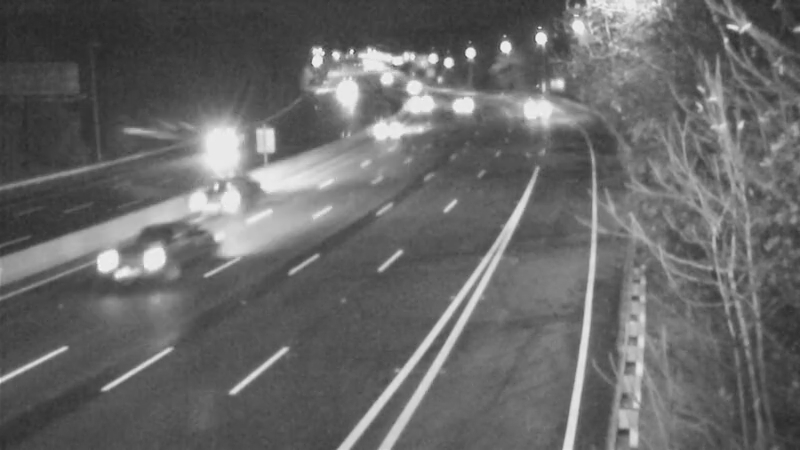vehicle: (181, 157, 261, 237), (106, 222, 186, 302), (189, 110, 269, 190), (355, 53, 405, 103), (385, 64, 435, 114), (509, 84, 559, 134), (439, 82, 489, 132), (393, 77, 443, 127), (360, 105, 410, 155), (316, 68, 366, 118)
